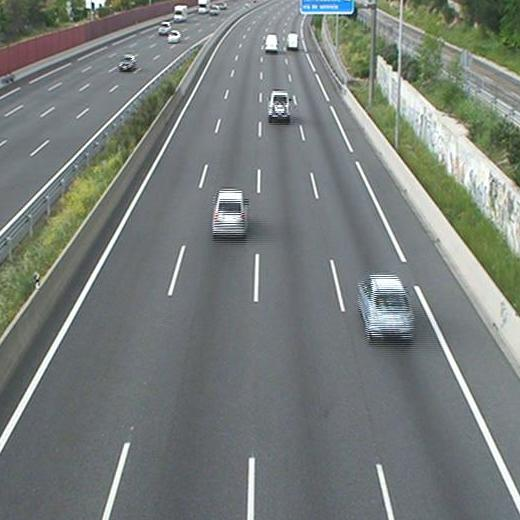car: (357, 274, 415, 344), (211, 188, 247, 238), (267, 89, 290, 124), (264, 33, 278, 52), (287, 33, 299, 48)
